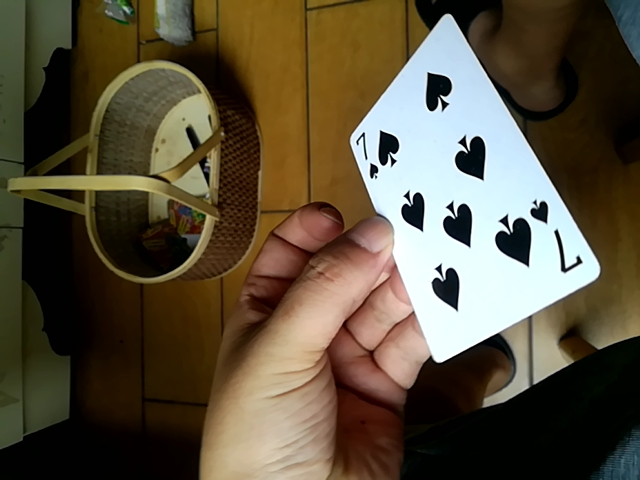ht 7: (344, 21, 596, 377)
